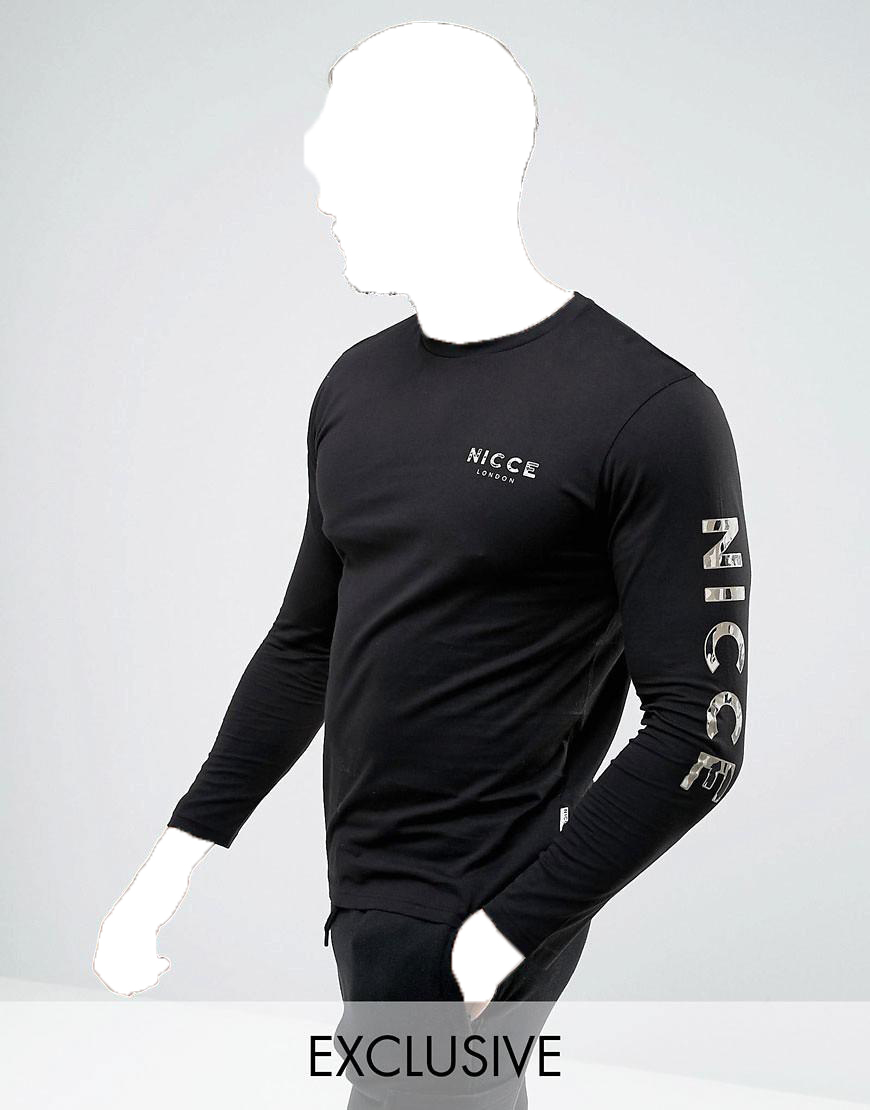teeshirt: (162, 286, 766, 944)
